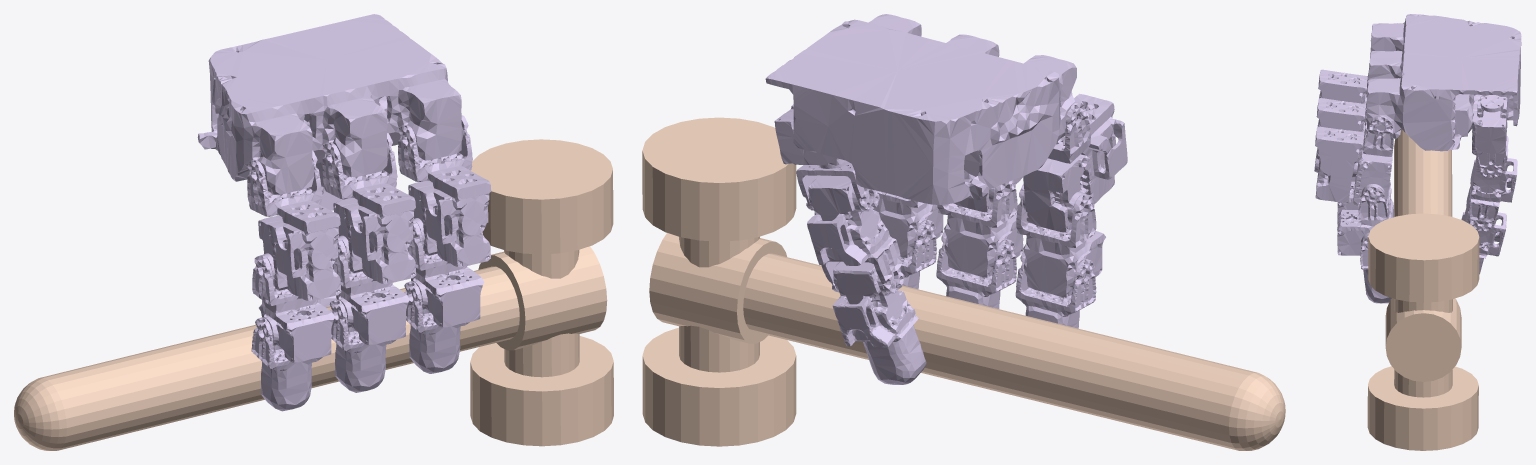
Rendered from f5e887d63c3310-closed.glb.
3 renders of one model, left to right at view 1: azimuth 30°, elevation 25°; view 2: azimuth 150°, elevation 25°; view 3: azimuth 270°, elevation 25°, orthographic. The views are drawn at different scales.
Parts seen in each view (by area): view 1: LEAP_hand, world; view 2: LEAP_hand, world; view 3: LEAP_hand, world.
Part boxes in pixels (bbox=[...]): LEAP_hand: bbox=[197, 14, 491, 411]; world: bbox=[14, 139, 613, 450]; LEAP_hand: bbox=[765, 14, 1127, 384]; world: bbox=[642, 117, 1285, 450]; LEAP_hand: bbox=[1314, 14, 1521, 303]; world: bbox=[1367, 129, 1479, 450].
Size of the model in its own units: 0.3581 by 0.2255 by 0.1418.
